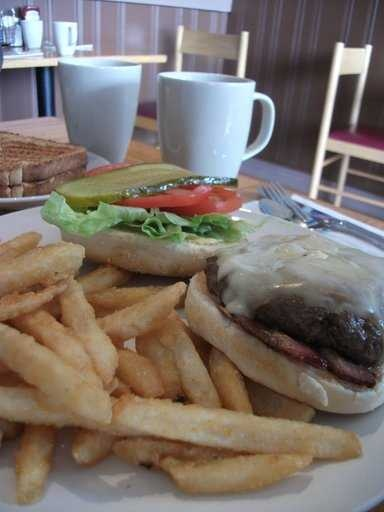hamburger: (37, 153, 384, 410)
